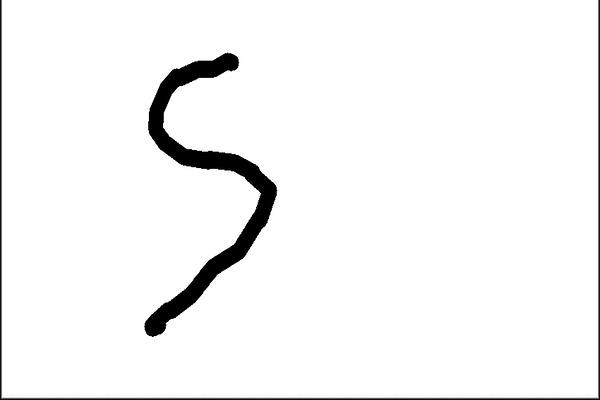S: (139, 47, 283, 343)
